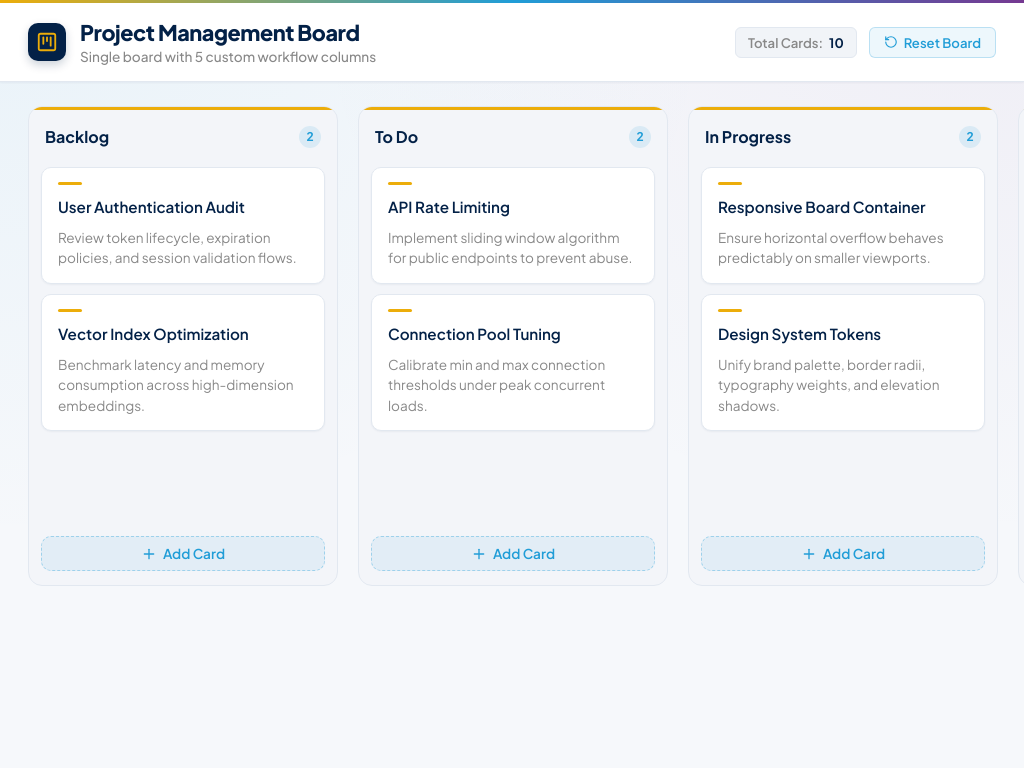
Scenario: KanbanBoard Component › allows adding a new card with title and details to a column
This screenshot has width=1024, height=768.
Open add card form in Backlog column
Click the button with test id "add-card-button-col-1": (183, 554) [41, 536, 325, 571]
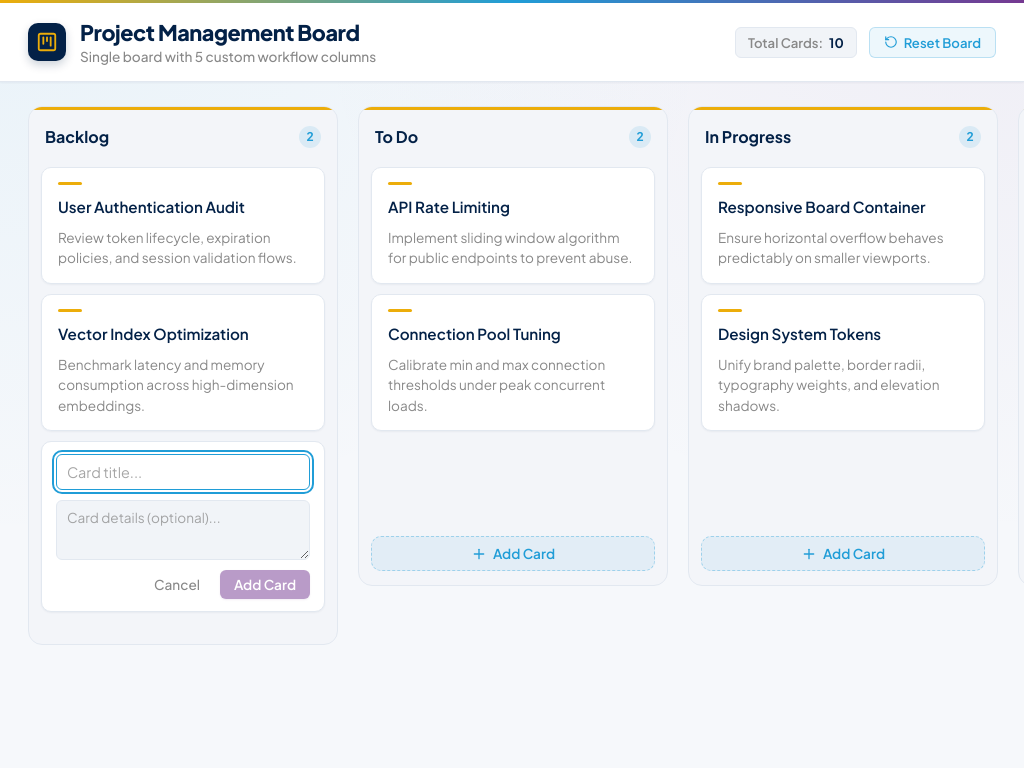
expect the button with test id "add-card-submit-button" is disabled: met, box [220, 570, 310, 599]
Fill form
In the field with test id "add-card-title-input": (183, 472) [56, 454, 310, 490], type "New Test Feature"
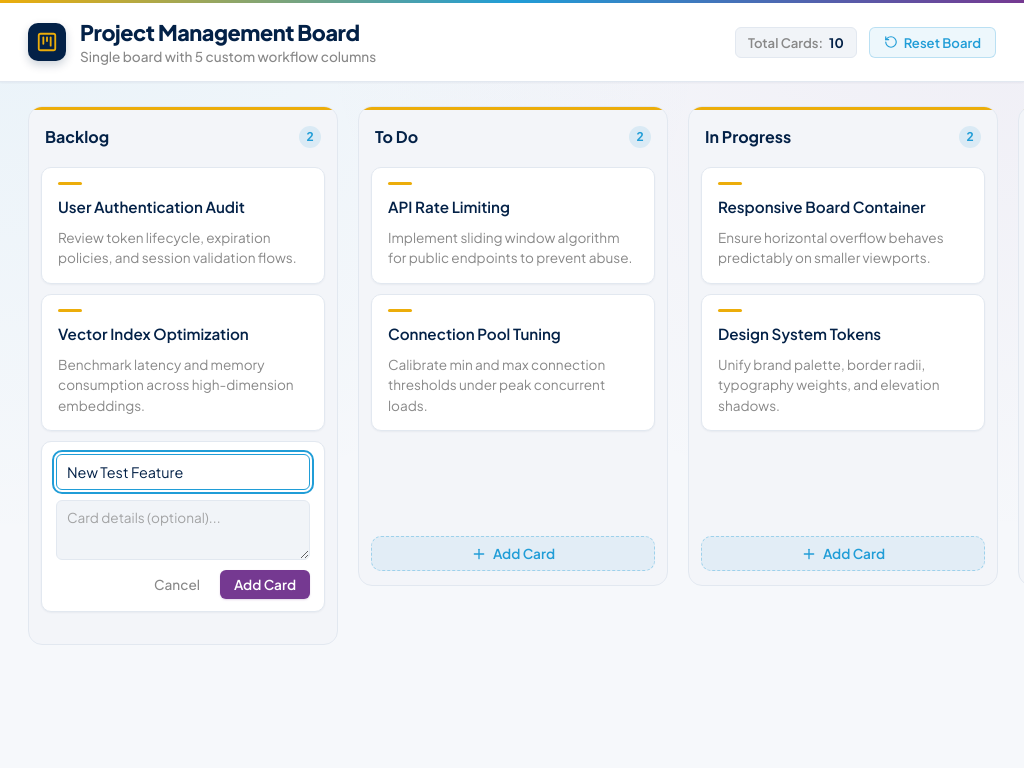
expect the button with test id "add-card-submit-button" is enabled: met, box [220, 570, 310, 599]
In the text box with test id "add-card-details-input": (183, 530) [56, 500, 310, 560], type "Detailed description of the new feature."
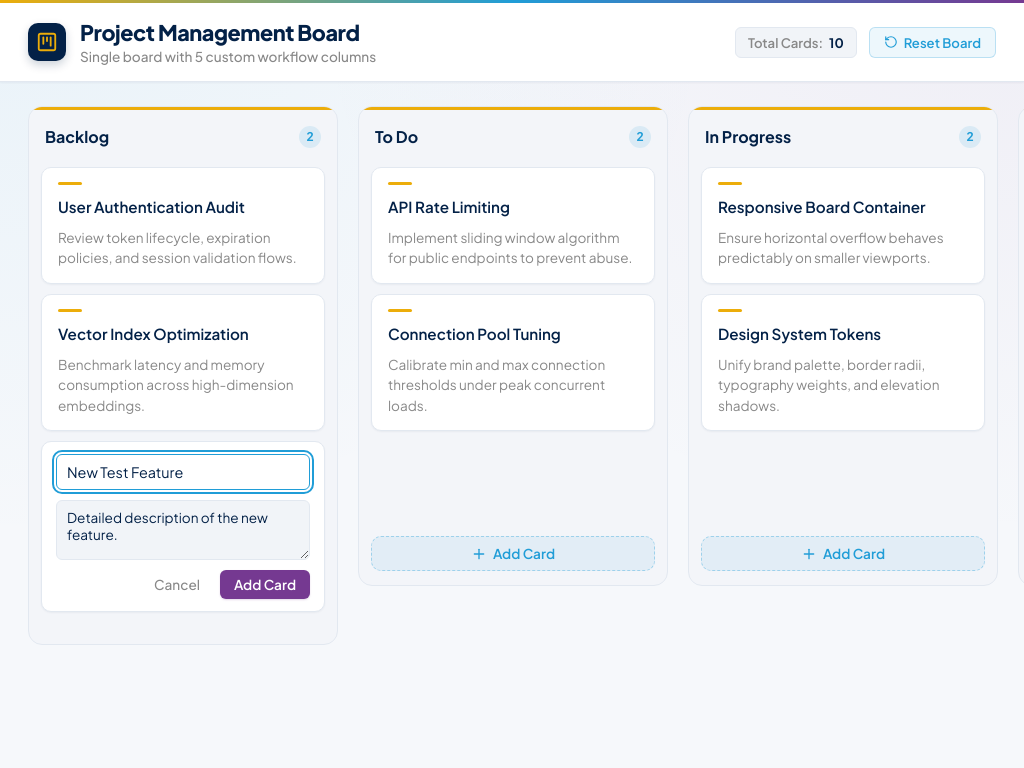
Click the button with test id "add-card-submit-button": (265, 584) [220, 570, 310, 599]
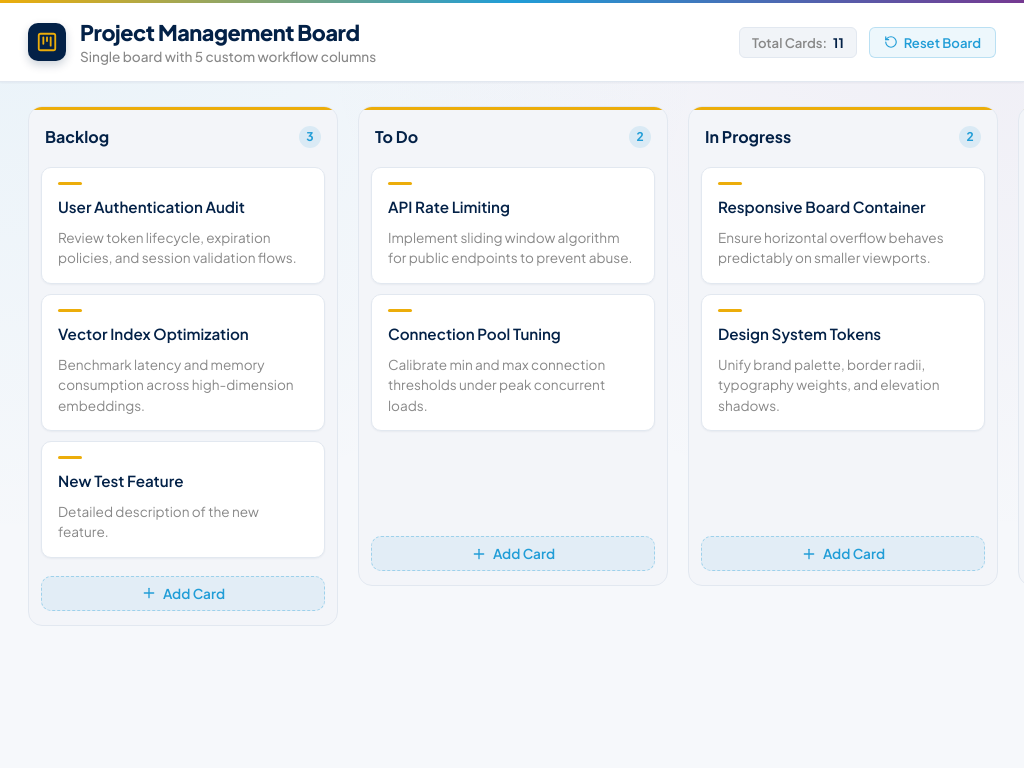
expect the heading "New Test Feature" is shown: met, box [58, 471, 184, 490]
expect the text "Detailed description of the new feature." is shown: met, box [58, 503, 259, 540]
expect the text with test id "column-count-col-1" reads "3": met, box [306, 129, 314, 144]
